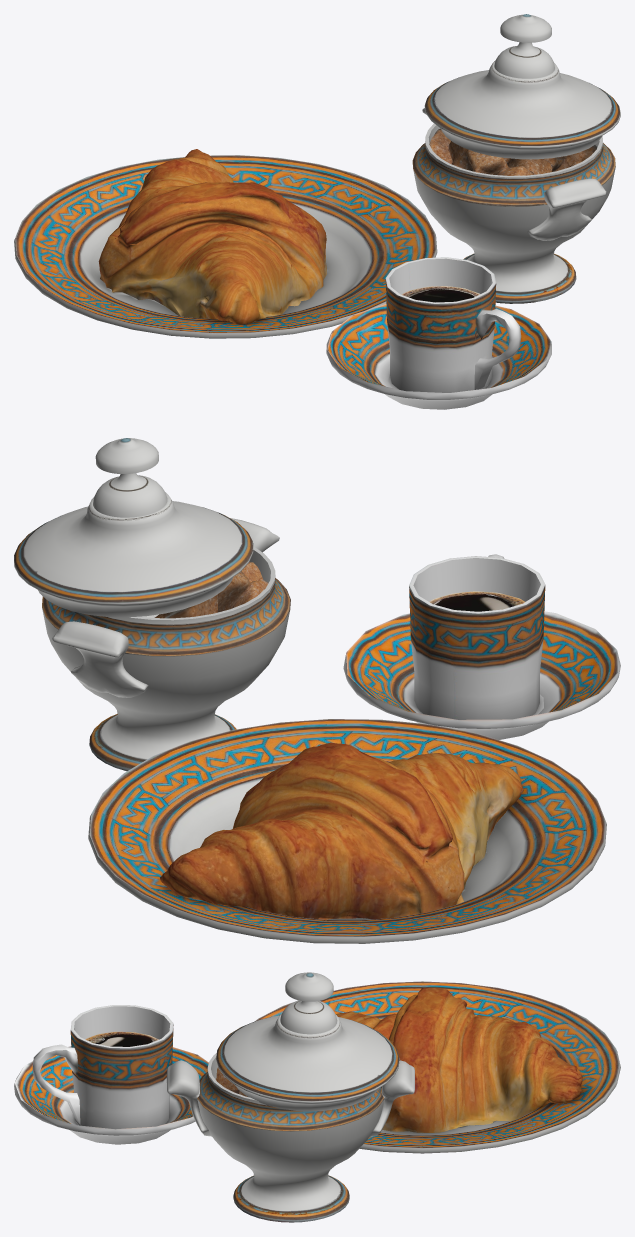
Rendered from 07_Croissant.glb.
3 views of the same model, one above another, from view 1: azimuth 30°, elevation 25°; view 2: azimuth 150°, elevation 25°; view 3: azimuth 270°, elevation 25° (orthographic). The views are drawn at different scales.
Visible parts, largest first — view 1: Croissant; view 2: Croissant; view 3: Croissant.
Boxes of the visible parts, <box> form: Croissant: <box>14,14,620,409</box>; Croissant: <box>14,438,620,943</box>; Croissant: <box>14,972,620,1222</box>.
Size of the model in its own units: 0.2736 by 0.1308 by 0.3047.
Materials: 6 (6 with a texture image).
